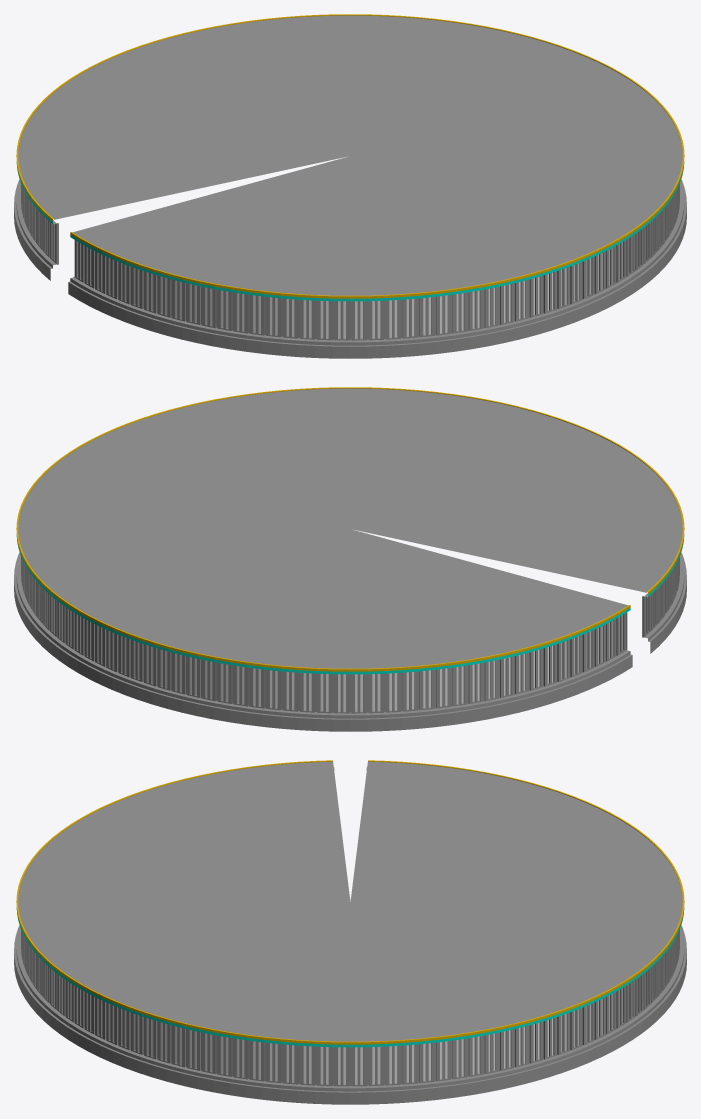
Rendered from PlateauWithCollison.fbx.
The picture shows the model from 3 angles, top to bottom: view 1: azimuth 30°, elevation 25°; view 2: azimuth 150°, elevation 25°; view 3: azimuth 270°, elevation 25°; orthographic projection.
Visible parts, largest first — view 1: PlateauFront; view 2: PlateauFront; view 3: PlateauFront.
Part boxes in pixels (x1,y1,x2,y2): PlateauFront: (14,14,686,358); PlateauFront: (14,387,686,731); PlateauFront: (14,760,686,1104).
Size of what is drawn, in the model's own units: 1208 by 121 by 1209.
